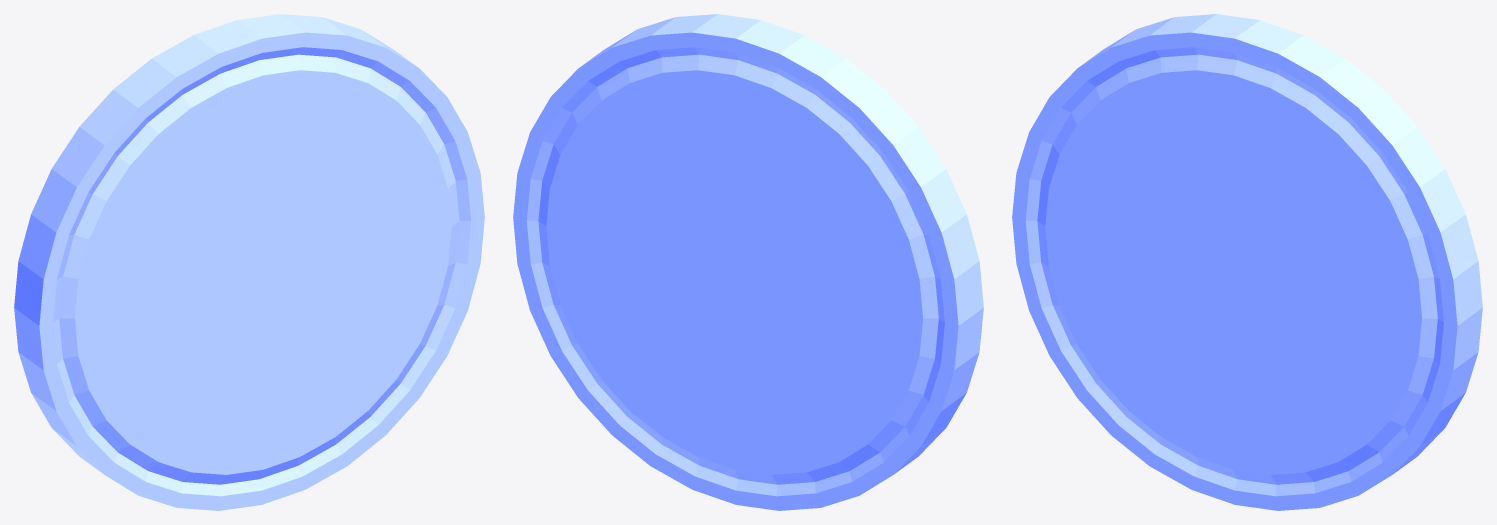
File: ProtoCoin.glb
3 renders of one model, left to right at view 1: azimuth 30°, elevation 25°; view 2: azimuth 150°, elevation 25°; view 3: azimuth 330°, elevation 25°, orthographic.
Visible parts, largest first — view 1: Cylinder; view 2: Cylinder; view 3: Cylinder.
Boxes of the visible parts, x1=… form: Cylinder: x1=14, y1=14, x2=484, y2=510; Cylinder: x1=513, y1=14, x2=983, y2=510; Cylinder: x1=1012, y1=14, x2=1482, y2=510.
Size of the model in its own units: 2 by 2 by 0.2143.
